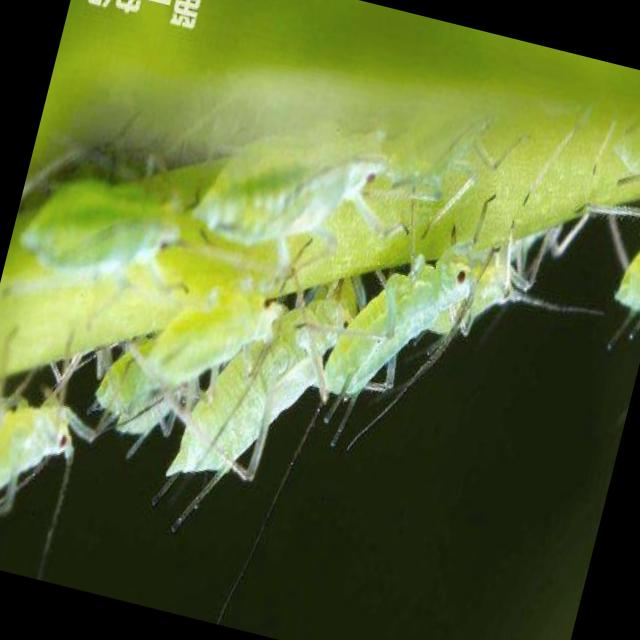Aphids: (144, 218, 390, 518), (304, 162, 516, 432)
